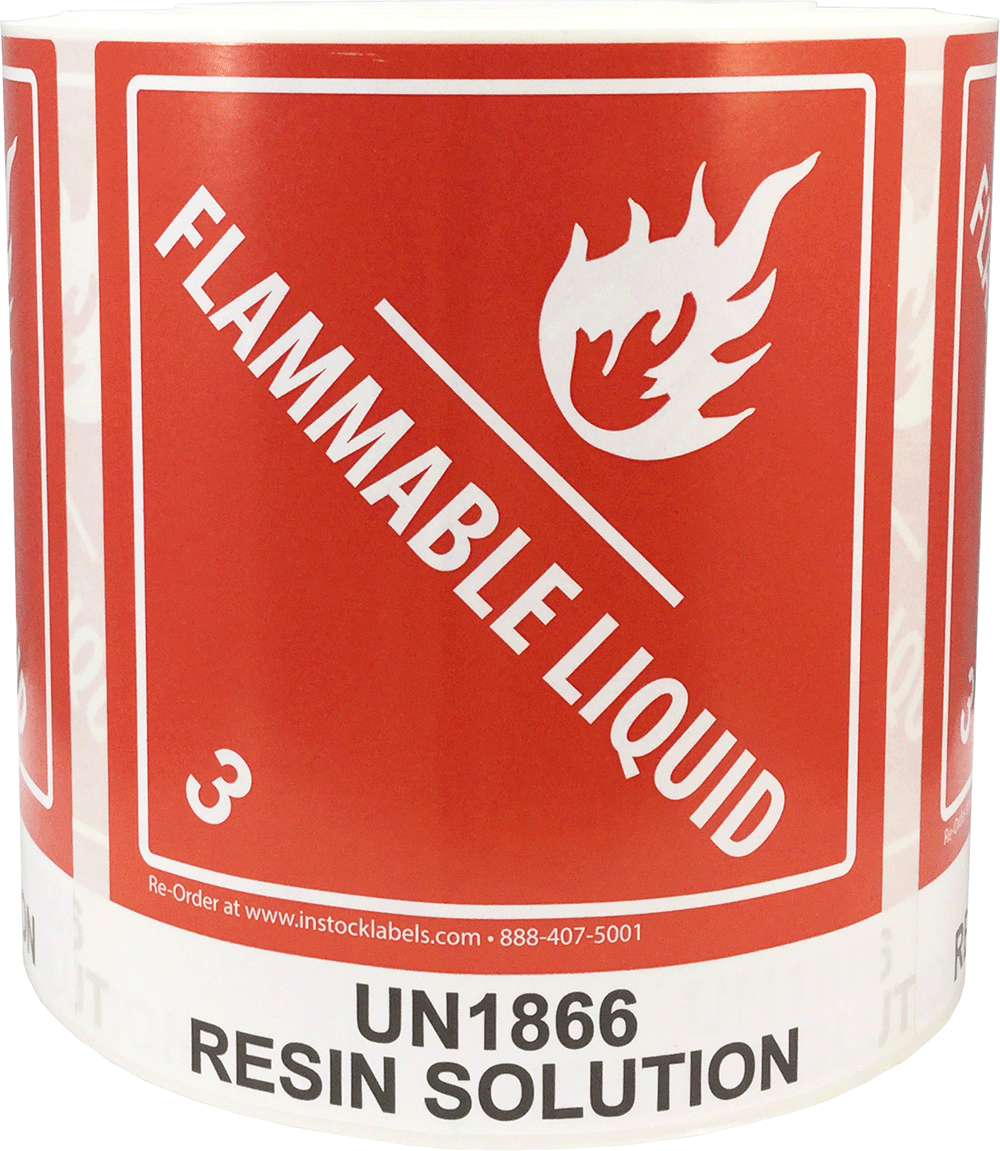FlammableLiquid: (115, 48, 863, 913)
